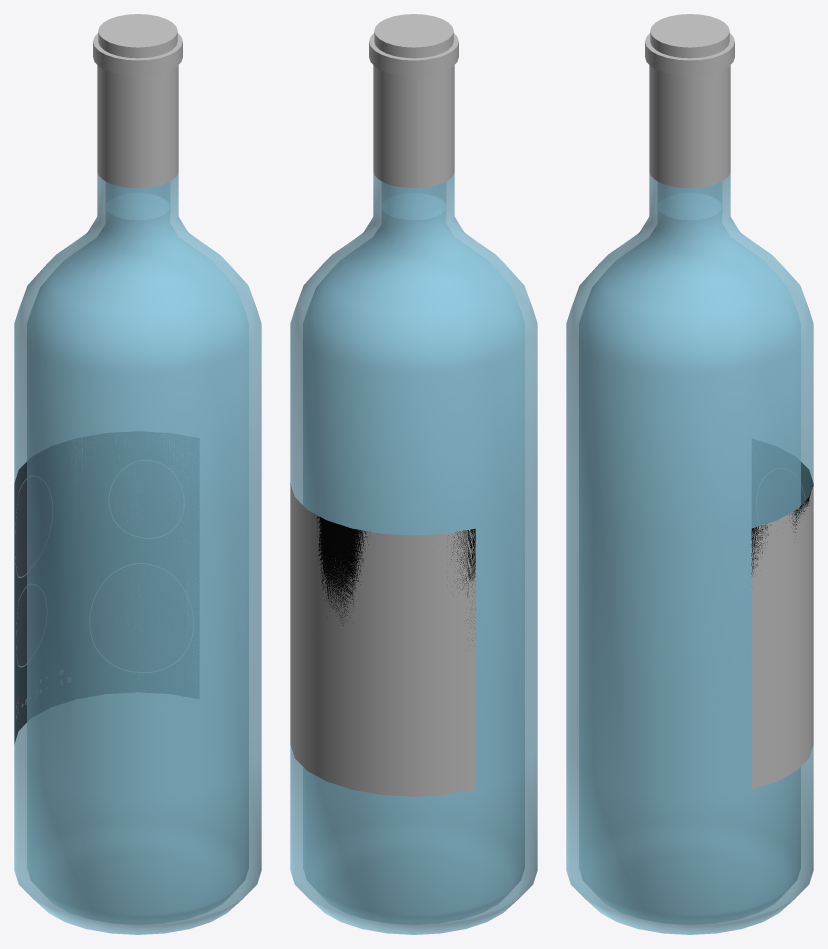
Rendered from Wine_Bottle.FBX.
The picture shows the model from 3 angles, left to right: view 1: azimuth 30°, elevation 25°; view 2: azimuth 150°, elevation 25°; view 3: azimuth 270°, elevation 25°; orthographic projection.
Parts seen in each view (by area): view 1: Wine_Bottle, Liquid; view 2: Wine_Bottle, Liquid; view 3: Wine_Bottle, Liquid.
Part boxes in pixels (box(x1,y1,x2,y2)): Wine_Bottle: box(14, 14, 261, 934); Liquid: box(27, 193, 248, 924); Wine_Bottle: box(290, 14, 537, 934); Liquid: box(303, 193, 524, 924); Wine_Bottle: box(566, 14, 813, 934); Liquid: box(579, 193, 800, 924).
Bounding box in the file's own units: 0.1184 × 0.4552 × 0.1184.
